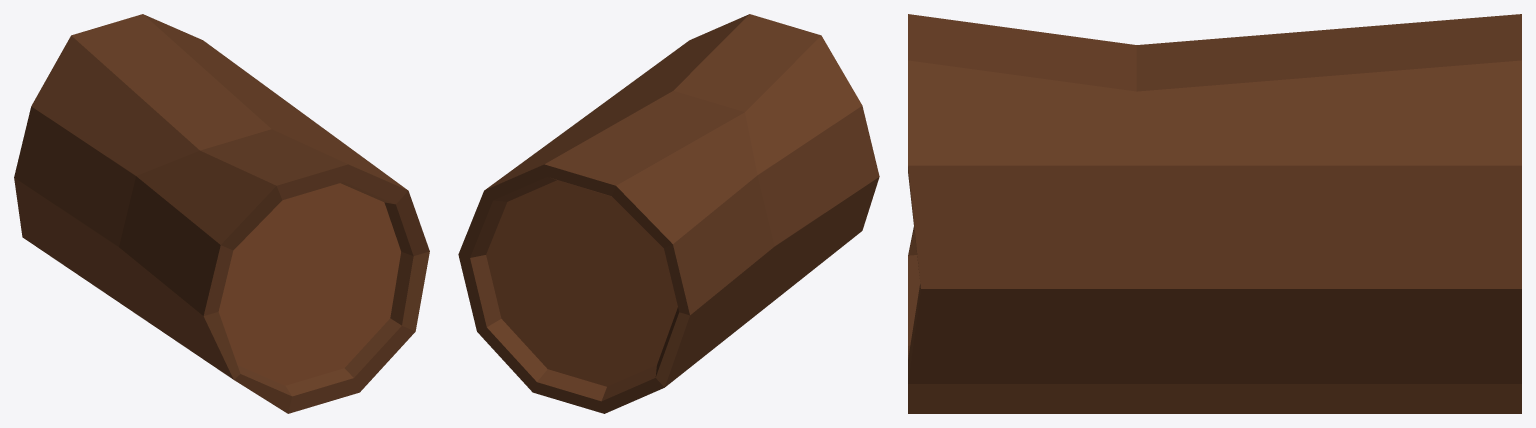
Rendered from woodlog03.gltf.
3 renders of one model, left to right at view 1: azimuth 30°, elevation 25°; view 2: azimuth 150°, elevation 25°; view 3: azimuth 270°, elevation 25°, orthographic. The views are drawn at different scales.
Visible parts, largest first — view 1: Cylinder.001; view 2: Cylinder.001; view 3: Cylinder.001.
Part boxes in pixels (x1=…): Cylinder.001: x1=14, y1=14, x2=429, y2=413; Cylinder.001: x1=458, y1=14, x2=879, y2=413; Cylinder.001: x1=908, y1=14, x2=1521, y2=413.
Bounding box in the file's own units: 0.3063 × 0.308 × 0.4883.
Materials: 1 (1 with a texture image).
